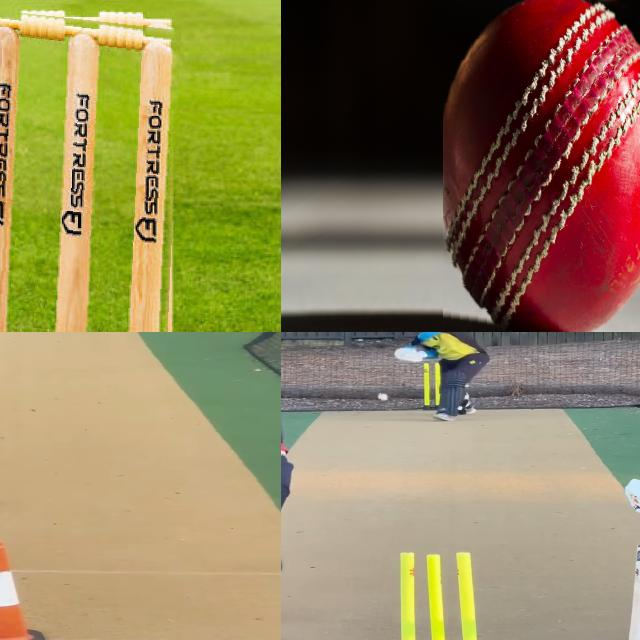Cricket ball: (442, 0, 640, 332), (376, 391, 391, 401)
Stumps: (0, 9, 181, 332), (383, 545, 498, 640), (422, 361, 444, 412)
